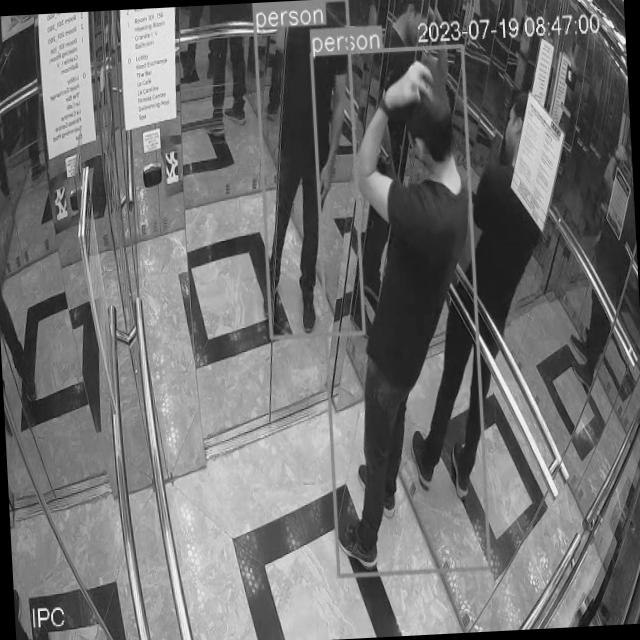person: (308, 48, 491, 586), (265, 4, 364, 320)
